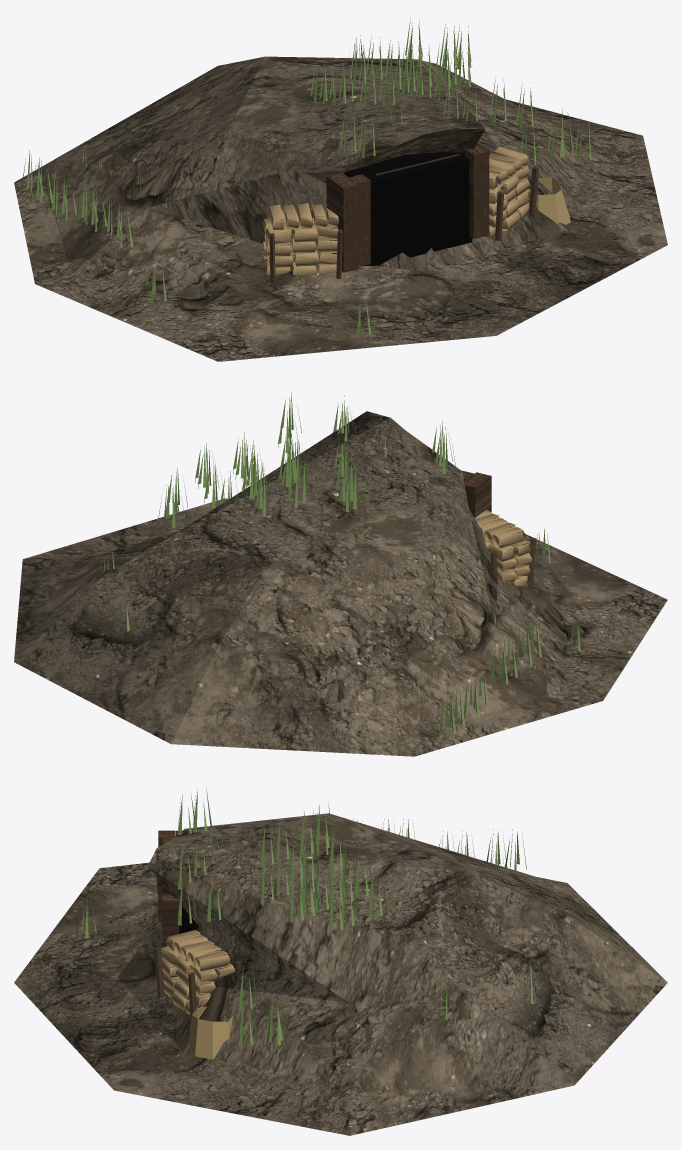
File: tunnel_entrance_hidden.glb
The picture shows the model from 3 angles, top to bottom: view 1: azimuth 30°, elevation 25°; view 2: azimuth 150°, elevation 25°; view 3: azimuth 270°, elevation 25°; orthographic projection. The views are drawn at different scales.
Parts seen in each view (by area): view 1: vc_tunnel_entrance; view 2: vc_tunnel_entrance; view 3: vc_tunnel_entrance.
Part boxes in pixels (x1,y1,x2,y2): vc_tunnel_entrance: (14, 16, 667, 361); vc_tunnel_entrance: (14, 392, 667, 756); vc_tunnel_entrance: (14, 788, 667, 1135).
Bounding box in the file's own units: 5.14 × 1.47 × 4.8.
62 materials, 6 textured.
